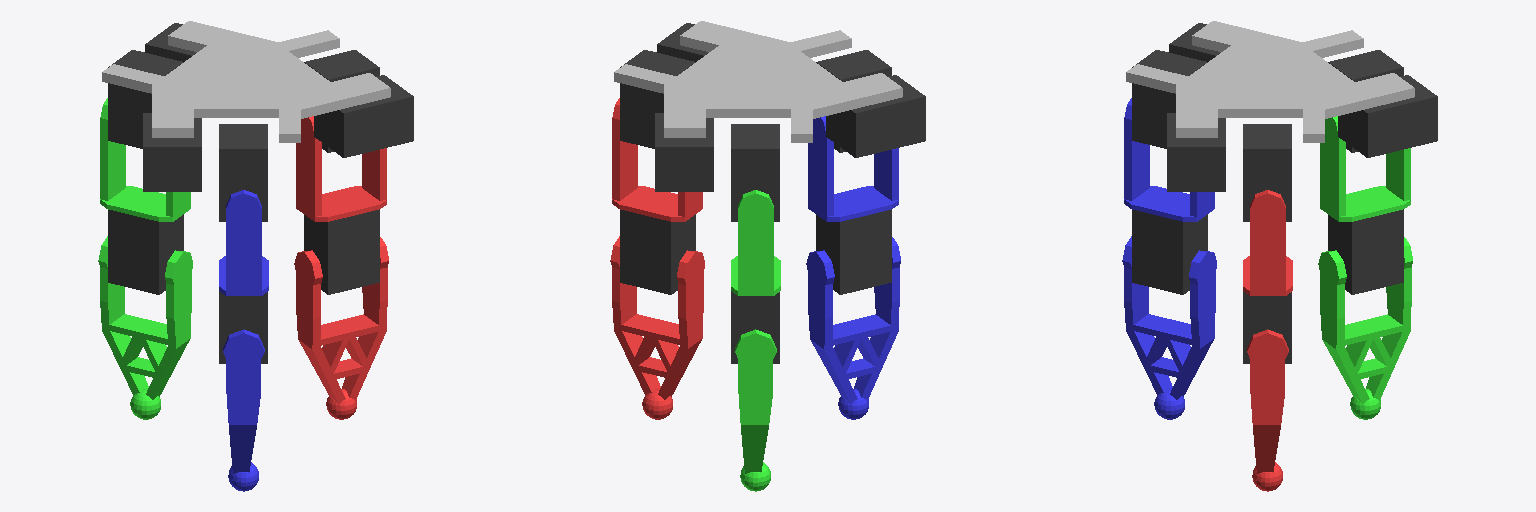
URDF robot description (tripod):
<?xml version="1.0"?>

<robot name="tripod">

            <material name="linkWhite">
                <color rgba="0.8 0.8 0.8 1"/>
            </material>

            <material name="leg_A_link_color">
                <color rgba="1.0 0.3 0.3 1"/>
            </material>
            
            <material name="leg_B_link_color">
                <color rgba="0.3 1.0 0.3 1"/>
            </material>
            
            <material name="leg_C_link_color">
                <color rgba="0.3 0.3 1.0 1"/>
            </material>

            <material name="motorColor">
                <color rgba="0.3 0.3 0.3 1"/>
            </material>

    <link name="[base_link]">
        <visual>
            <geometry>
                <mesh filename="./model/base simple v4 mesh.stl" scale="0.001 0.001 0.001"/>
            </geometry>
            <origin rpy="0 0 0" xyz="0 0 0"/>
            <material name="linkWhite"/>
        </visual>
        <collision>
            <geometry>
                <mesh filename="./model/base simple v4 mesh.stl" scale="0.001 0.001 0.001"/>
            </geometry>
            <origin rpy="0 0 0" xyz="0 0 0"/>
        </collision>
        <inertial>
            <mass value="0.100"/>
            <inertia    ixx="1.192E+05"     ixy="-0.016"        ixz="-0.018"
                        iyx="-0.016"        iyy="1.192E+05"     iyz="0.015"
                        izx="-0.018"        izy="0.015"         izz="2.177E+05" />
        </inertial>
    </link>
    
    <joint name="[base_link]_to_[motor_A_0]" type="fixed">
        <parent link="[base_link]"/>
        <child link="[motor_A_0]"/>
        <origin xyz="0.065000 -0.0409 -0.02045" />
    </joint>

    <link name="[motor_A_0]">
        <visual>
            <geometry>
                <box size="0.0465 0.034 0.0285"/>
            </geometry>
            <origin rpy="0 0 0" xyz="-0.009 0 0"/>
            <material name="motorColor">
                <color rgba="0.3 0.3 0.3 1"/>
            </material>
        </visual>
        <collision>
            <geometry>
                <box size="0.0465 0.034 0.0285"/>
            </geometry>
            <origin rpy="0 0 0" xyz="-0.009 0 0"/>
        </collision>
        <inertial>
            <origin rpy="0 0 0" xyz="0 0.019 0"/>
            <mass value="0.042"/>
            <inertia iyy="+2.3637802e+04" iyz="-1.3104499e+02" iyx="-7.0722547e+01"
                     izy="-1.3104499e+02" izz="+1.2925400e+04" izx="-1.8421436e+03"
                     ixy="-7.0722547e+01" ixz="-1.8421436e+03" ixx="+2.11e8506e+04" />
        </inertial>
    </link>

    <joint name="[motor_A_0]_to_[motor_A_1]" type="revolute">
        <parent link="[motor_A_0]"/>
        <child link="[motor_A_1]"/>
        <origin xyz="0.0 0.0409 0.0" rpy="0 0 0"/>
        <axis xyz="0 1 0"/>
        <limit effort="100" lower="-3.1" upper="+3.1" velocity="100"/>
        <dynamics damping="0"/>
    </joint>
    
    <link name="[motor_A_1]">
        <visual>
            <origin rpy="0 0 0" xyz="0 0 -0.009"/>
            <geometry>
                <box size="0.034 0.028 0.0465"/>
            </geometry>
            <material name="motorColor">
                <color rgba="0.3 0.3 0.3 1"/>
            </material>
        </visual>
        <collision>
            <origin rpy="0 0 0" xyz="0 0 -0.009"/>
            <geometry>
                <box size="0.034 0.028 0.0465"/>
            </geometry>
        </collision>
        <inertial>
            <origin rpy="0 0 0" xyz="0.019 0 -0.021"/>
            <mass value="0.042"/>
            <inertia izz="+2.3637802e+04" izx="+1.3104499e+02" izy="+7.0722547e+01"
                     ixz="+1.3104499e+02" ixx="+1.2925400e+04" ixy="-1.8421436e+03"
                     iyz="+7.0722547e+01" iyx="-1.8421436e+03" iyy="+2.11e8506e+04" />
        </inertial>
    </link>
    
    <joint name="[motor_A_1]_to_[leg_A_link_1]" type="revolute">
        <parent link="[motor_A_1]"/>
        <child link="[leg_A_link_1]"/>
        <origin xyz="0.0 0.0 -0.021"  rpy="0 0 0"/>
        <axis xyz="1 0 0"/>
        <limit effort="100" lower="-3.1" upper="+3.1" velocity="100"/>
        <dynamics damping="0"/>
    </joint>


    <link name="[leg_A_link_1]">
        <visual>
            <geometry>
                <mesh filename="./m2 to m3 link v4 col.stl" scale="0.001 0.001 0.001"/>
            </geometry>
            <material name="leg_A_link_color"/>
            <origin rpy="0 0 0" xyz="0.0 0.0 0"/>
        </visual>
        <collision>
            <geometry>
                <mesh filename="./m2 to m3 link v4 col.stl" scale="0.001 0.001 0.001"/>
            </geometry>
            <origin rpy="0 0 0" xyz="0.0 0.0 0"/>
        </collision>
        <inertial>
            <mass value="0.021"/>
            <inertia    ixx="3.056E+04"     ixy="-8.318E-04"    ixz="-0.027"
                        iyx="-8.318E-04"    iyy="3.683E+04"     iyz="108.31"
                        izx="-0.027"        izy="108.31"        izz="8401.458" />
        </inertial>
    </link>
        
    <joint name="[leg_A_link_1]_to_[motor_A_2]" type="fixed">
        <parent link="[leg_A_link_1]"/>
        <child link="[motor_A_2]"/>
        <origin xyz="0.0 0.0 -0.09" rpy="0 0 0"/>
    </joint>
    
    <link name="[motor_A_2]">
        <visual>
            <origin rpy="0 0 0" xyz="0 0 0.012"/>
            <geometry>
                <box size="0.034 0.028 0.0465"/>
            </geometry>
            <material name="motorColor"/>
        </visual>
        <collision>
            <origin rpy="0 0 0" xyz="0 0 0.012"/>
            <geometry>
                <box size="0.034 0.028 0.0465"/>
            </geometry>
        </collision>
        <inertial>
            <origin rpy="0 0 0" xyz="0.019 0 -0.021"/>
            <mass value="0.042"/>
            <inertia izz="+2.3637802e+04" izx="+1.3104499e+02" izy="+7.0722547e+01"
                     ixz="+1.3104499e+02" ixx="+1.2925400e+04" ixy="-1.8421436e+03"
                     iyz="+7.0722547e+01" iyx="-1.8421436e+03" iyy="+2.11e8506e+04" />
        </inertial>
    </link>
    
    <joint name="[motor_A_2]_to_[leg_A_link_2]" type="revolute">
        <parent link="[motor_A_2]"/>
        <child link="[leg_A_link_2]"/>
        <origin xyz="0.0 0.0 0"  rpy="0 0 0"/>
        <axis xyz="1 0 0"/>
        <limit effort="100" lower="-3.1" upper="+3.1" velocity="100"/>
        <dynamics damping="0"/>
    </joint>


    <link name="[leg_A_link_2]">
        <visual>
            <geometry>
                <mesh filename="./m3 to end simple v6 low.stl" scale="0.001 0.001 0.001"/>
            </geometry>
            <material name="leg_A_link_color"/>
            <origin rpy="0 0 0" xyz="0.0 0.0 0"/>
        </visual>
        <collision concave="yes">
            <geometry>
                <mesh filename="./m3 to end simple v6 filled 20.stl" scale="0.001 0.001 0.001"/>
            </geometry>
            <origin rpy="0 0 0" xyz="0.0 0.0 0"/>
        </collision>
        <collision>
            <geometry>
                <sphere radius="0.009"/>
            </geometry>
            <origin rpy="0 0 0" xyz="0.0 0.0 -0.09"/>
        </collision>
        <inertial>
            <mass value="0.029"/>
            <inertia    ixx="7.579E+04"     ixy="6.020E-05"     ixz="-7.095E-04"
                        iyx="6.020E-05"     iyy="8.254E+04"     iyz="-415.817"
                        izx="-7.095E-04"    izy="-415.817"      izz="8137.146" />
        </inertial>
    </link>
        
    <!-- ######################################################################################################  -->

    <joint name="[base_link]_to_[motor_B_0]" type="fixed">
        <parent link="[base_link]"/>
        <child link="[motor_B_0]"/>
        <origin xyz="0.0029204390147835 0.076741651245989 -0.02045" rpy="0 0 2.09439510239" />
    </joint>

    <link name="[motor_B_0]">
        <visual>
            <geometry>
                <box size="0.0465 0.034 0.0285"/>
            </geometry>
            <origin rpy="0 0 0" xyz="-0.009 0 0"/>
            <material name="motorColor">
                <color rgba="0.3 0.3 0.3 1"/>
            </material>
        </visual>
        <collision>
            <geometry>
                <box size="0.0465 0.034 0.0285"/>
            </geometry>
            <origin rpy="0 0 0" xyz="-0.009 0 0"/>
        </collision>
        <inertial>
            <origin rpy="0 0 0" xyz="0 0.019 0"/>
            <mass value="0.042"/>
            <inertia iyy="+2.3637802e+04" iyz="-1.3104499e+02" iyx="-7.0722547e+01"
                     izy="-1.3104499e+02" izz="+1.2925400e+04" izx="-1.8421436e+03"
                     ixy="-7.0722547e+01" ixz="-1.8421436e+03" ixx="+2.11e8506e+04" />
        </inertial>
    </link>

    <joint name="[motor_B_0]_to_[motor_B_1]" type="revolute">
        <parent link="[motor_B_0]"/>
        <child link="[motor_B_1]"/>
        <origin xyz="0.0 0.0409 0.0" rpy="0 0 0"/>
        <axis xyz="0 1 0"/>
        <limit effort="100" lower="-3.1" upper="+3.1" velocity="100"/>
        <dynamics damping="0"/>
    </joint>
    
    <link name="[motor_B_1]">
        <visual>
            <origin rpy="0 0 0" xyz="0 0 -0.009"/>
            <geometry>
                <box size="0.034 0.028 0.0465"/>
            </geometry>
            <material name="motorColor">
                <color rgba="0.3 0.3 0.3 1"/>
            </material>
        </visual>
        <collision>
            <origin rpy="0 0 0" xyz="0 0 -0.009"/>
            <geometry>
                <box size="0.034 0.028 0.0465"/>
            </geometry>
        </collision>
        <inertial>
            <origin rpy="0 0 0" xyz="0.019 0 -0.021"/>
            <mass value="0.042"/>
            <inertia izz="+2.3637802e+04" izx="+1.3104499e+02" izy="+7.0722547e+01"
                     ixz="+1.3104499e+02" ixx="+1.2925400e+04" ixy="-1.8421436e+03"
                     iyz="+7.0722547e+01" iyx="-1.8421436e+03" iyy="+2.11e8506e+04" />
        </inertial>
    </link>
    
    <joint name="[motor_B_1]_to_[leg_B_link_1]" type="revolute">
        <parent link="[motor_B_1]"/>
        <child link="[leg_B_link_1]"/>
        <origin xyz="0.0 0.0 -0.021"  rpy="0 0 0"/>
        <axis xyz="1 0 0"/>
        <limit effort="100" lower="-3.1" upper="+3.1" velocity="100"/>
        <dynamics damping="0"/>
    </joint>


    <link name="[leg_B_link_1]">
        <visual>
            <geometry>
                <mesh filename="./m2 to m3 link v4 col.stl" scale="0.001 0.001 0.001"/>
            </geometry>
            <material name="leg_B_link_color"/>
            <origin rpy="0 0 0" xyz="0.0 0.0 0"/>
        </visual>
        <collision>
            <geometry>
                <mesh filename="./m2 to m3 link v4 col.stl" scale="0.001 0.001 0.001"/>
            </geometry>
            <origin rpy="0 0 0" xyz="0.0 0.0 0"/>
        </collision>
        <inertial>
            <mass value="0.021"/>
            <inertia    ixx="3.056E+04"     ixy="-8.318E-04"    ixz="-0.027"
                        iyx="-8.318E-04"    iyy="3.683E+04"     iyz="108.31"
                        izx="-0.027"        izy="108.31"        izz="8401.458" />
        </inertial>
    </link>
        
    <joint name="[leg_B_link_1]_to_[motor_B_2]" type="fixed">
        <parent link="[leg_B_link_1]"/>
        <child link="[motor_B_2]"/>
        <origin xyz="0.0 0.0 -0.09" rpy="0 0 0"/>
    </joint>
    
    <link name="[motor_B_2]">
        <visual>
            <origin rpy="0 0 0" xyz="0 0 0.012"/>
            <geometry>
                <box size="0.034 0.028 0.0465"/>
            </geometry>
            <material name="motorColor"/>
        </visual>
        <collision>
            <origin rpy="0 0 0" xyz="0 0 0.012"/>
            <geometry>
                <box size="0.034 0.028 0.0465"/>
            </geometry>
        </collision>
        <inertial>
            <origin rpy="0 0 0" xyz="0.019 0 -0.021"/>
            <mass value="0.042"/>
            <inertia izz="+2.3637802e+04" izx="+1.3104499e+02" izy="+7.0722547e+01"
                     ixz="+1.3104499e+02" ixx="+1.2925400e+04" ixy="-1.8421436e+03"
                     iyz="+7.0722547e+01" iyx="-1.8421436e+03" iyy="+2.11e8506e+04" />
        </inertial>
    </link>
    
    <joint name="[motor_B_2]_to_[leg_B_link_2]" type="revolute">
        <parent link="[motor_B_2]"/>
        <child link="[leg_B_link_2]"/>
        <origin xyz="0.0 0.0 0"  rpy="0 0 0"/>
        <axis xyz="1 0 0"/>
        <limit effort="100" lower="-3.1" upper="+3.1" velocity="100"/>
        <dynamics damping="0"/>
    </joint>


    <link name="[leg_B_link_2]">
        <visual>
            <geometry>
                <mesh filename="./m3 to end simple v6 low.stl" scale="0.001 0.001 0.001"/>
            </geometry>
            <material name="leg_B_link_color"/>
            <origin rpy="0 0 0" xyz="0.0 0.0 0"/>
        </visual>
        <collision concave="yes">
            <geometry>
                <mesh filename="./m3 to end simple v6 filled 20.stl" scale="0.001 0.001 0.001"/>
            </geometry>
            <origin rpy="0 0 0" xyz="0.0 0.0 0"/>
        </collision>
        <collision>
            <geometry>
                <sphere radius="0.009"/>
            </geometry>
            <origin rpy="0 0 0" xyz="0.0 0.0 -0.09"/>
        </collision>
        <inertial>
            <mass value="0.029"/>
            <inertia    ixx="7.579E+04"     ixy="6.020E-05"     ixz="-7.095E-04"
                        iyx="6.020E-05"     iyy="8.254E+04"     iyz="-415.817"
                        izx="-7.095E-04"    izy="-415.817"      izz="8137.146" />
        </inertial>
    </link>
    <!-- ######################################################################################################  -->


    <joint name="[base_link]_to_[motor_C_0]" type="fixed">
        <parent link="[base_link]"/>
        <child link="[motor_C_0]"/>
        <origin xyz="-0.067920439014784 -0.035841651245989 -0.02045" rpy="0 0 4.18879020479" />
    </joint>

    <link name="[motor_C_0]">
        <visual>
            <geometry>
                <box size="0.0465 0.034 0.0285"/>
            </geometry>
            <origin rpy="0 0 0" xyz="-0.009 0 0"/>
            <material name="motorColor">
                <color rgba="0.3 0.3 0.3 1"/>
            </material>
        </visual>
        <collision>
            <geometry>
                <box size="0.0465 0.034 0.0285"/>
            </geometry>
            <origin rpy="0 0 0" xyz="-0.009 0 0"/>
        </collision>
        <inertial>
            <origin rpy="0 0 0" xyz="0 0.019 0"/>
            <mass value="0.042"/>
            <inertia iyy="+2.3637802e+04" iyz="-1.3104499e+02" iyx="-7.0722547e+01"
                     izy="-1.3104499e+02" izz="+1.2925400e+04" izx="-1.8421436e+03"
                     ixy="-7.0722547e+01" ixz="-1.8421436e+03" ixx="+2.11e8506e+04" />
        </inertial>
    </link>

    <joint name="[motor_C_0]_to_[motor_C_1]" type="revolute">
        <parent link="[motor_C_0]"/>
        <child link="[motor_C_1]"/>
        <origin xyz="0.0 0.0409 0.0" rpy="0 0 0"/>
        <axis xyz="0 1 0"/>
        <limit effort="100" lower="-3.1" upper="+3.1" velocity="100"/>
        <dynamics damping="0"/>
    </joint>
    
    <link name="[motor_C_1]">
        <visual>
            <origin rpy="0 0 0" xyz="0 0 -0.009"/>
            <geometry>
                <box size="0.034 0.028 0.0465"/>
            </geometry>
            <material name="motorColor">
                <color rgba="0.3 0.3 0.3 1"/>
            </material>
        </visual>
        <collision>
            <origin rpy="0 0 0" xyz="0 0 -0.009"/>
            <geometry>
                <box size="0.034 0.028 0.0465"/>
            </geometry>
        </collision>
        <inertial>
            <origin rpy="0 0 0" xyz="0.019 0 -0.021"/>
            <mass value="0.042"/>
            <inertia izz="+2.3637802e+04" izx="+1.3104499e+02" izy="+7.0722547e+01"
                     ixz="+1.3104499e+02" ixx="+1.2925400e+04" ixy="-1.8421436e+03"
                     iyz="+7.0722547e+01" iyx="-1.8421436e+03" iyy="+2.11e8506e+04" />
        </inertial>
    </link>
    
    <joint name="[motor_C_1]_to_[leg_C_link_1]" type="revolute">
        <parent link="[motor_C_1]"/>
        <child link="[leg_C_link_1]"/>
        <origin xyz="0.0 0.0 -0.021"  rpy="0 0 0"/>
        <axis xyz="1 0 0"/>
        <limit effort="100" lower="-3.1" upper="+3.1" velocity="100"/>
        <dynamics damping="0"/>
    </joint>


    <link name="[leg_C_link_1]">
        <visual>
            <geometry>
                <mesh filename="./m2 to m3 link v4 col.stl" scale="0.001 0.001 0.001"/>
            </geometry>
            <material name="leg_C_link_color"/>
            <origin rpy="0 0 0" xyz="0.0 0.0 0"/>
        </visual>
        <collision>
            <geometry>
                <mesh filename="./m2 to m3 link v4 col.stl" scale="0.001 0.001 0.001"/>
            </geometry>
            <origin rpy="0 0 0" xyz="0.0 0.0 0"/>
        </collision>
        <inertial>
            <mass value="0.021"/>
            <inertia    ixx="3.056E+04"     ixy="-8.318E-04"    ixz="-0.027"
                        iyx="-8.318E-04"    iyy="3.683E+04"     iyz="108.31"
                        izx="-0.027"        izy="108.31"        izz="8401.458" />
        </inertial>
    </link>
        
    <joint name="[leg_C_link_1]_to_[motor_C_2]" type="fixed">
        <parent link="[leg_C_link_1]"/>
        <child link="[motor_C_2]"/>
        <origin xyz="0.0 0.0 -0.09" rpy="0 0 0"/>
    </joint>
    
    <link name="[motor_C_2]">
        <visual>
            <origin rpy="0 0 0" xyz="0 0 0.012"/>
            <geometry>
                <box size="0.034 0.028 0.0465"/>
            </geometry>
            <material name="motorColor"/>
        </visual>
        <collision>
            <origin rpy="0 0 0" xyz="0 0 0.012"/>
            <geometry>
                <box size="0.034 0.028 0.0465"/>
            </geometry>
        </collision>
        <inertial>
            <origin rpy="0 0 0" xyz="0.019 0 -0.021"/>
            <mass value="0.042"/>
            <inertia izz="+2.3637802e+04" izx="+1.3104499e+02" izy="+7.0722547e+01"
                     ixz="+1.3104499e+02" ixx="+1.2925400e+04" ixy="-1.8421436e+03"
                     iyz="+7.0722547e+01" iyx="-1.8421436e+03" iyy="+2.11e8506e+04" />
        </inertial>
    </link>
    
    <joint name="[motor_C_2]_to_[leg_C_link_2]" type="revolute">
        <parent link="[motor_C_2]"/>
        <child link="[leg_C_link_2]"/>
        <origin xyz="0.0 0.0 0"  rpy="0 0 0"/>
        <axis xyz="1 0 0"/>
        <limit effort="100" lower="-3.1" upper="+3.1" velocity="100"/>
        <dynamics damping="0"/>
    </joint>


    <link name="[leg_C_link_2]">
        <visual>
            <geometry>
                <mesh filename="./m3 to end simple v6 low.stl" scale="0.001 0.001 0.001"/>
            </geometry>
            <material name="leg_C_link_color"/>
            <origin rpy="0 0 0" xyz="0.0 0.0 0"/>
        </visual>
        <collision concave="yes">
            <geometry>
                <mesh filename="./m3 to end simple v6 filled 20.stl" scale="0.001 0.001 0.001"/>
            </geometry>
            <origin rpy="0 0 0" xyz="0.0 0.0 0"/>
        </collision>
        <collision>
            <geometry>
                <sphere radius="0.009"/>
            </geometry>
            <origin rpy="0 0 0" xyz="0.0 0.0 -0.09"/>
        </collision>
        <inertial>
            <mass value="0.029"/>
            <inertia    ixx="7.579E+04"     ixy="6.020E-05"     ixz="-7.095E-04"
                        iyx="6.020E-05"     iyy="8.254E+04"     iyz="-415.817"
                        izx="-7.095E-04"    izy="-415.817"      izz="8137.146" />
        </inertial>
    </link>
        
</robot>

--- Render facts (derived) ---
3 views of the same robot in one strip: view 1: azimuth 30°, elevation 25°; view 2: azimuth 150°, elevation 25°; view 3: azimuth 270°, elevation 25° (orthographic).
Robot: tripod — 16 links, 15 joints (9 revolute, 6 fixed); root link [base_link]; default pose: all joints at 0.
Visible links, largest first — view 1: [base_link], [leg_A_link_2], [leg_B_link_2], [leg_A_link_1], [motor_A_2], [motor_B_2], [leg_C_link_2], [motor_A_0], [leg_C_link_1], [leg_B_link_1], [motor_C_1], [motor_C_0] (+4 smaller); view 2: [base_link], [leg_C_link_2], [leg_A_link_2], [leg_C_link_1], [motor_C_2], [motor_A_2], [leg_B_link_2], [motor_C_0], [leg_B_link_1], [leg_A_link_1], [motor_B_1], [motor_B_0] (+4 smaller); view 3: [base_link], [leg_B_link_2], [leg_C_link_2], [leg_B_link_1], [motor_B_2], [motor_C_2], [leg_A_link_2], [motor_B_0], [leg_A_link_1], [leg_C_link_1], [motor_A_1], [motor_A_0] (+4 smaller).
Boxes of the visible links, <box> form: [base_link]: <box>102,21,390,142</box>; [leg_A_link_2]: <box>294,237,388,419</box>; [leg_B_link_2]: <box>98,236,192,419</box>; [leg_A_link_1]: <box>296,116,386,221</box>; [motor_A_2]: <box>304,209,379,294</box>; [motor_B_2]: <box>108,210,183,294</box>; [leg_C_link_2]: <box>223,329,264,491</box>; [motor_A_0]: <box>314,75,413,157</box>; [leg_C_link_1]: <box>219,190,268,295</box>; [leg_B_link_1]: <box>100,98,190,221</box>; [motor_C_1]: <box>219,124,267,221</box>; [motor_C_0]: <box>143,113,201,191</box>; [base_link]: <box>614,21,902,142</box>; [leg_C_link_2]: <box>806,237,900,419</box>; [leg_A_link_2]: <box>610,236,704,419</box>; [leg_C_link_1]: <box>808,116,898,221</box>; [motor_C_2]: <box>816,209,891,294</box>; [motor_A_2]: <box>620,210,695,294</box>; [leg_B_link_2]: <box>735,329,776,491</box>; [motor_C_0]: <box>826,75,925,157</box>; [leg_B_link_1]: <box>731,190,780,295</box>; [leg_A_link_1]: <box>612,98,702,221</box>; [motor_B_1]: <box>731,124,779,221</box>; [motor_B_0]: <box>655,113,713,191</box>; [base_link]: <box>1126,21,1414,142</box>; [leg_B_link_2]: <box>1318,237,1412,419</box>; [leg_C_link_2]: <box>1122,236,1216,419</box>; [leg_B_link_1]: <box>1320,116,1410,221</box>; [motor_B_2]: <box>1328,209,1403,294</box>; [motor_C_2]: <box>1132,210,1207,294</box>; [leg_A_link_2]: <box>1247,329,1288,491</box>; [motor_B_0]: <box>1338,75,1437,157</box>; [leg_A_link_1]: <box>1243,190,1292,295</box>; [leg_C_link_1]: <box>1124,98,1214,221</box>; [motor_A_1]: <box>1243,124,1291,221</box>; [motor_A_0]: <box>1167,113,1225,191</box>.
Size in the robot's own frame: 0.1794 by 0.1812 by 0.2305 metres.
Meshes: 3 distinct files referenced, 7 mesh visuals loaded (3 binary STL).
